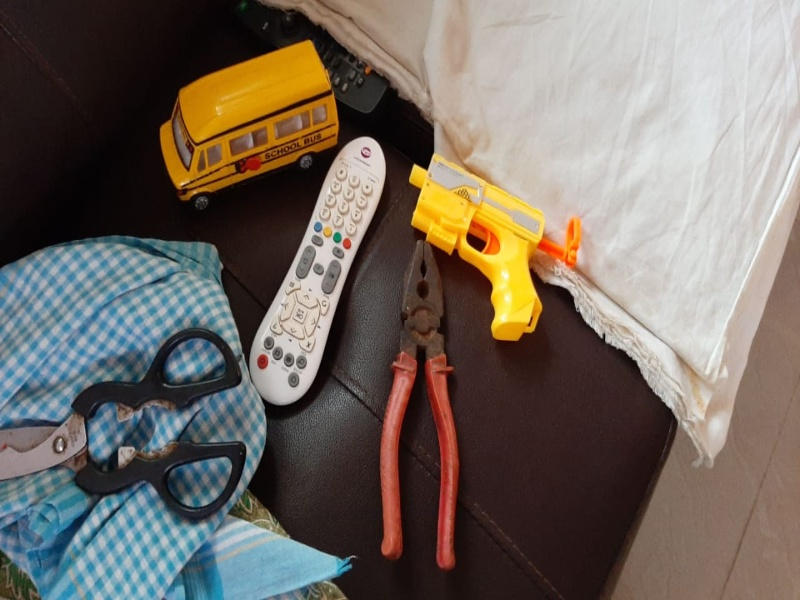cuttingplier: (374, 238, 462, 570)
